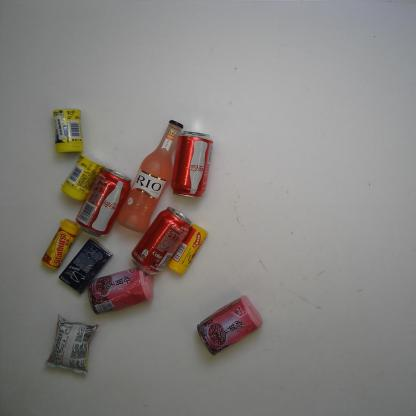Alcohol: (115, 118, 184, 233)
Candy: (41, 218, 82, 271), (168, 224, 208, 276)
Canned Food: (197, 294, 264, 356), (87, 266, 155, 316)
Dessert: (44, 314, 99, 376)
Drink: (131, 206, 192, 276), (75, 167, 132, 239), (170, 130, 214, 198)
Gum: (58, 237, 114, 294), (60, 153, 106, 202), (52, 107, 84, 154)
